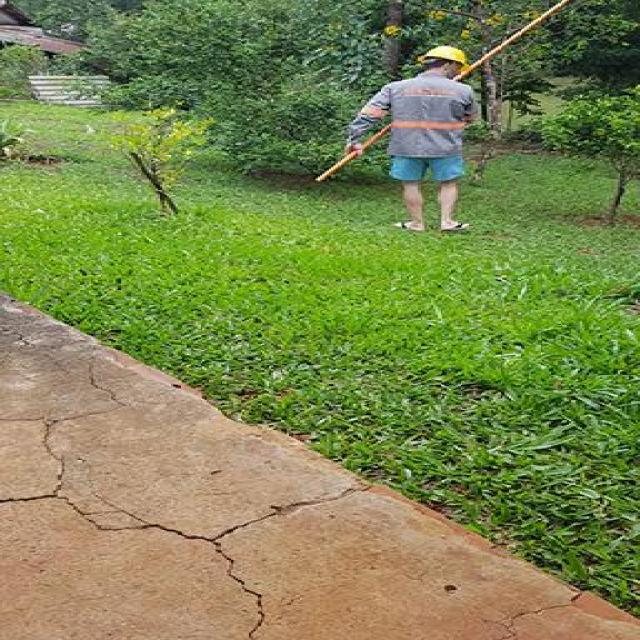helmet: (416, 44, 471, 80)
